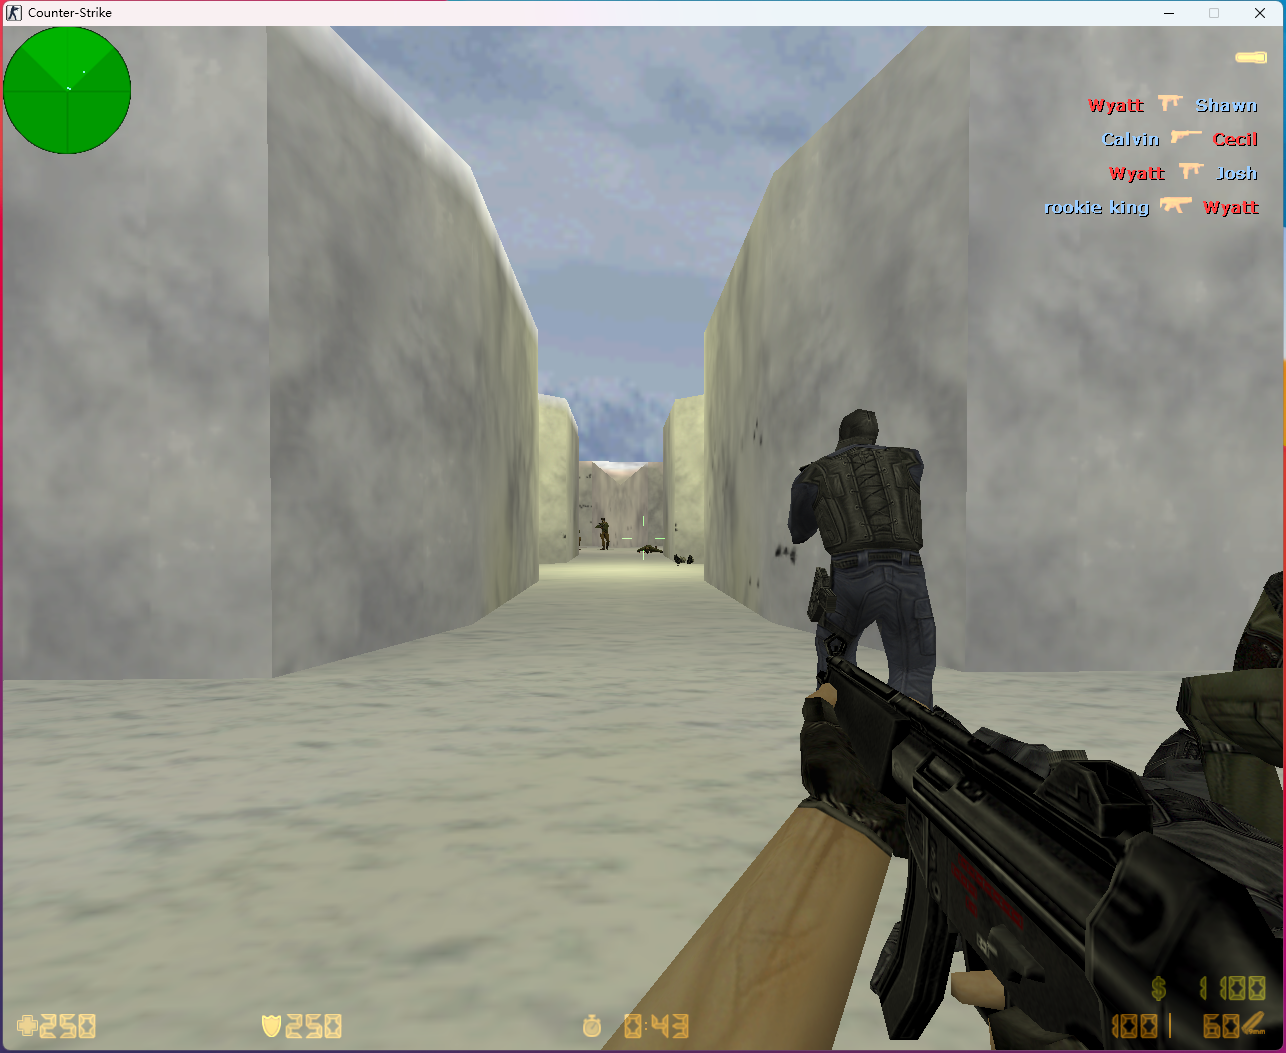C: (786, 408, 935, 743)
T: (595, 516, 610, 550)
dead: (638, 543, 663, 554)
